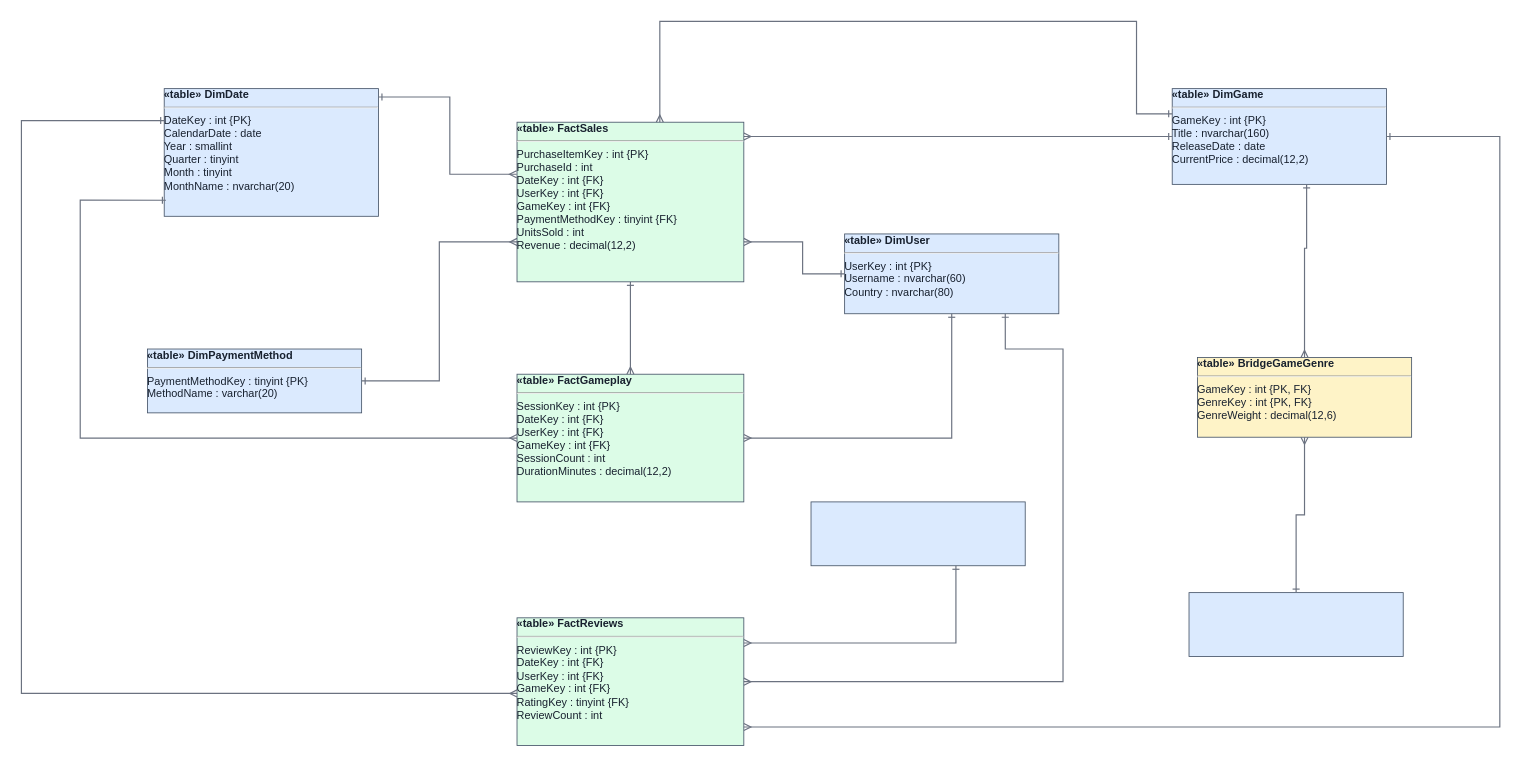
This 1523x761 diagram has some shape labels left out. Each missing label, with the centre of its shape:
"«table» DimGenre GenreKey : int {PK} GenreName : nvarchar(80)" goes at pixel 1295 624.
"«table» DimReviewRating RatingKey : tinyint {PK} RatingLabel : nvarchar(20)" goes at pixel 917 533.
